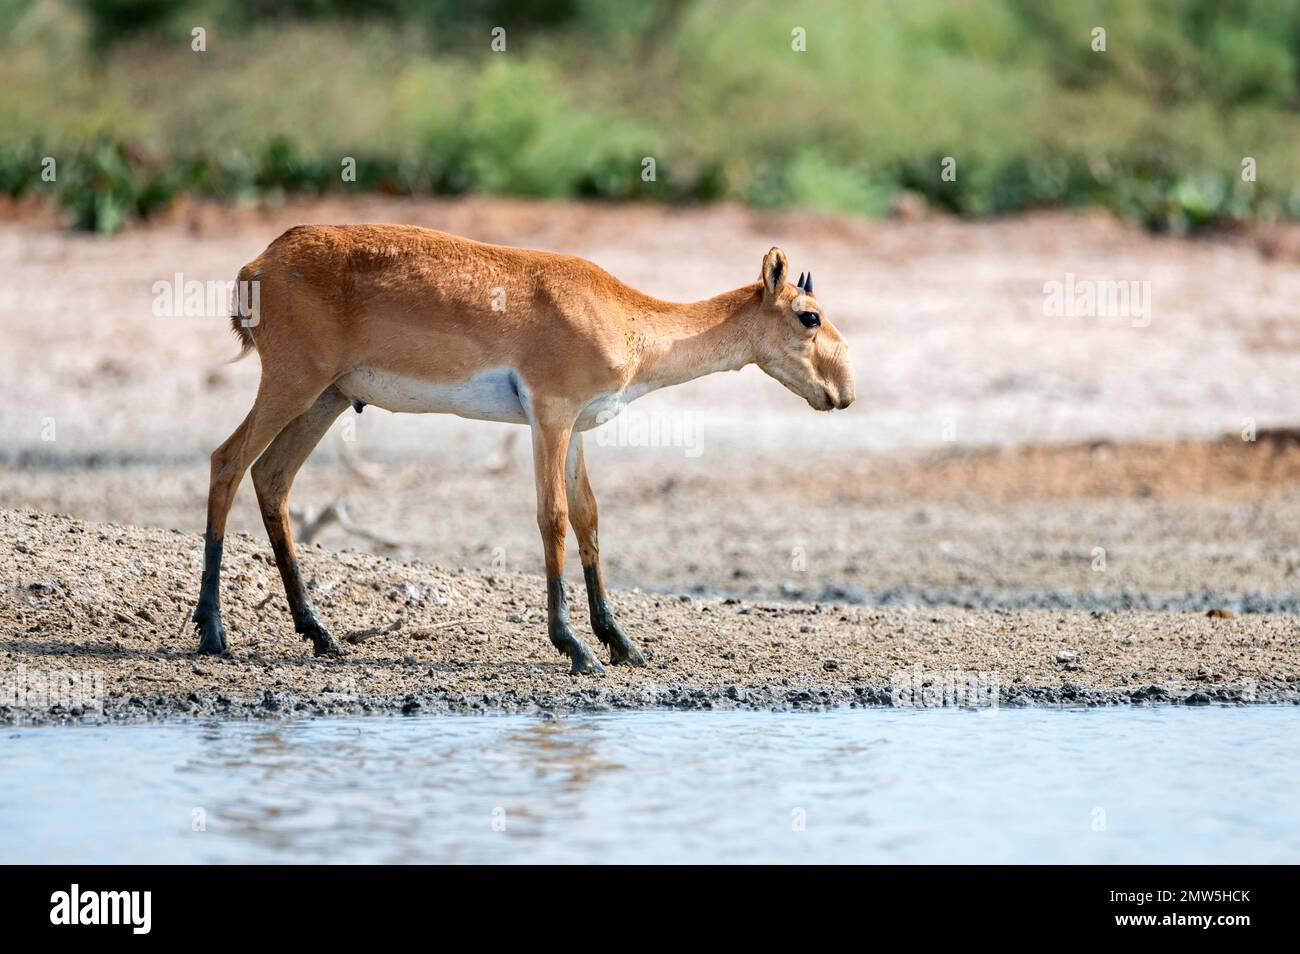saiga: (195, 219, 864, 663)
